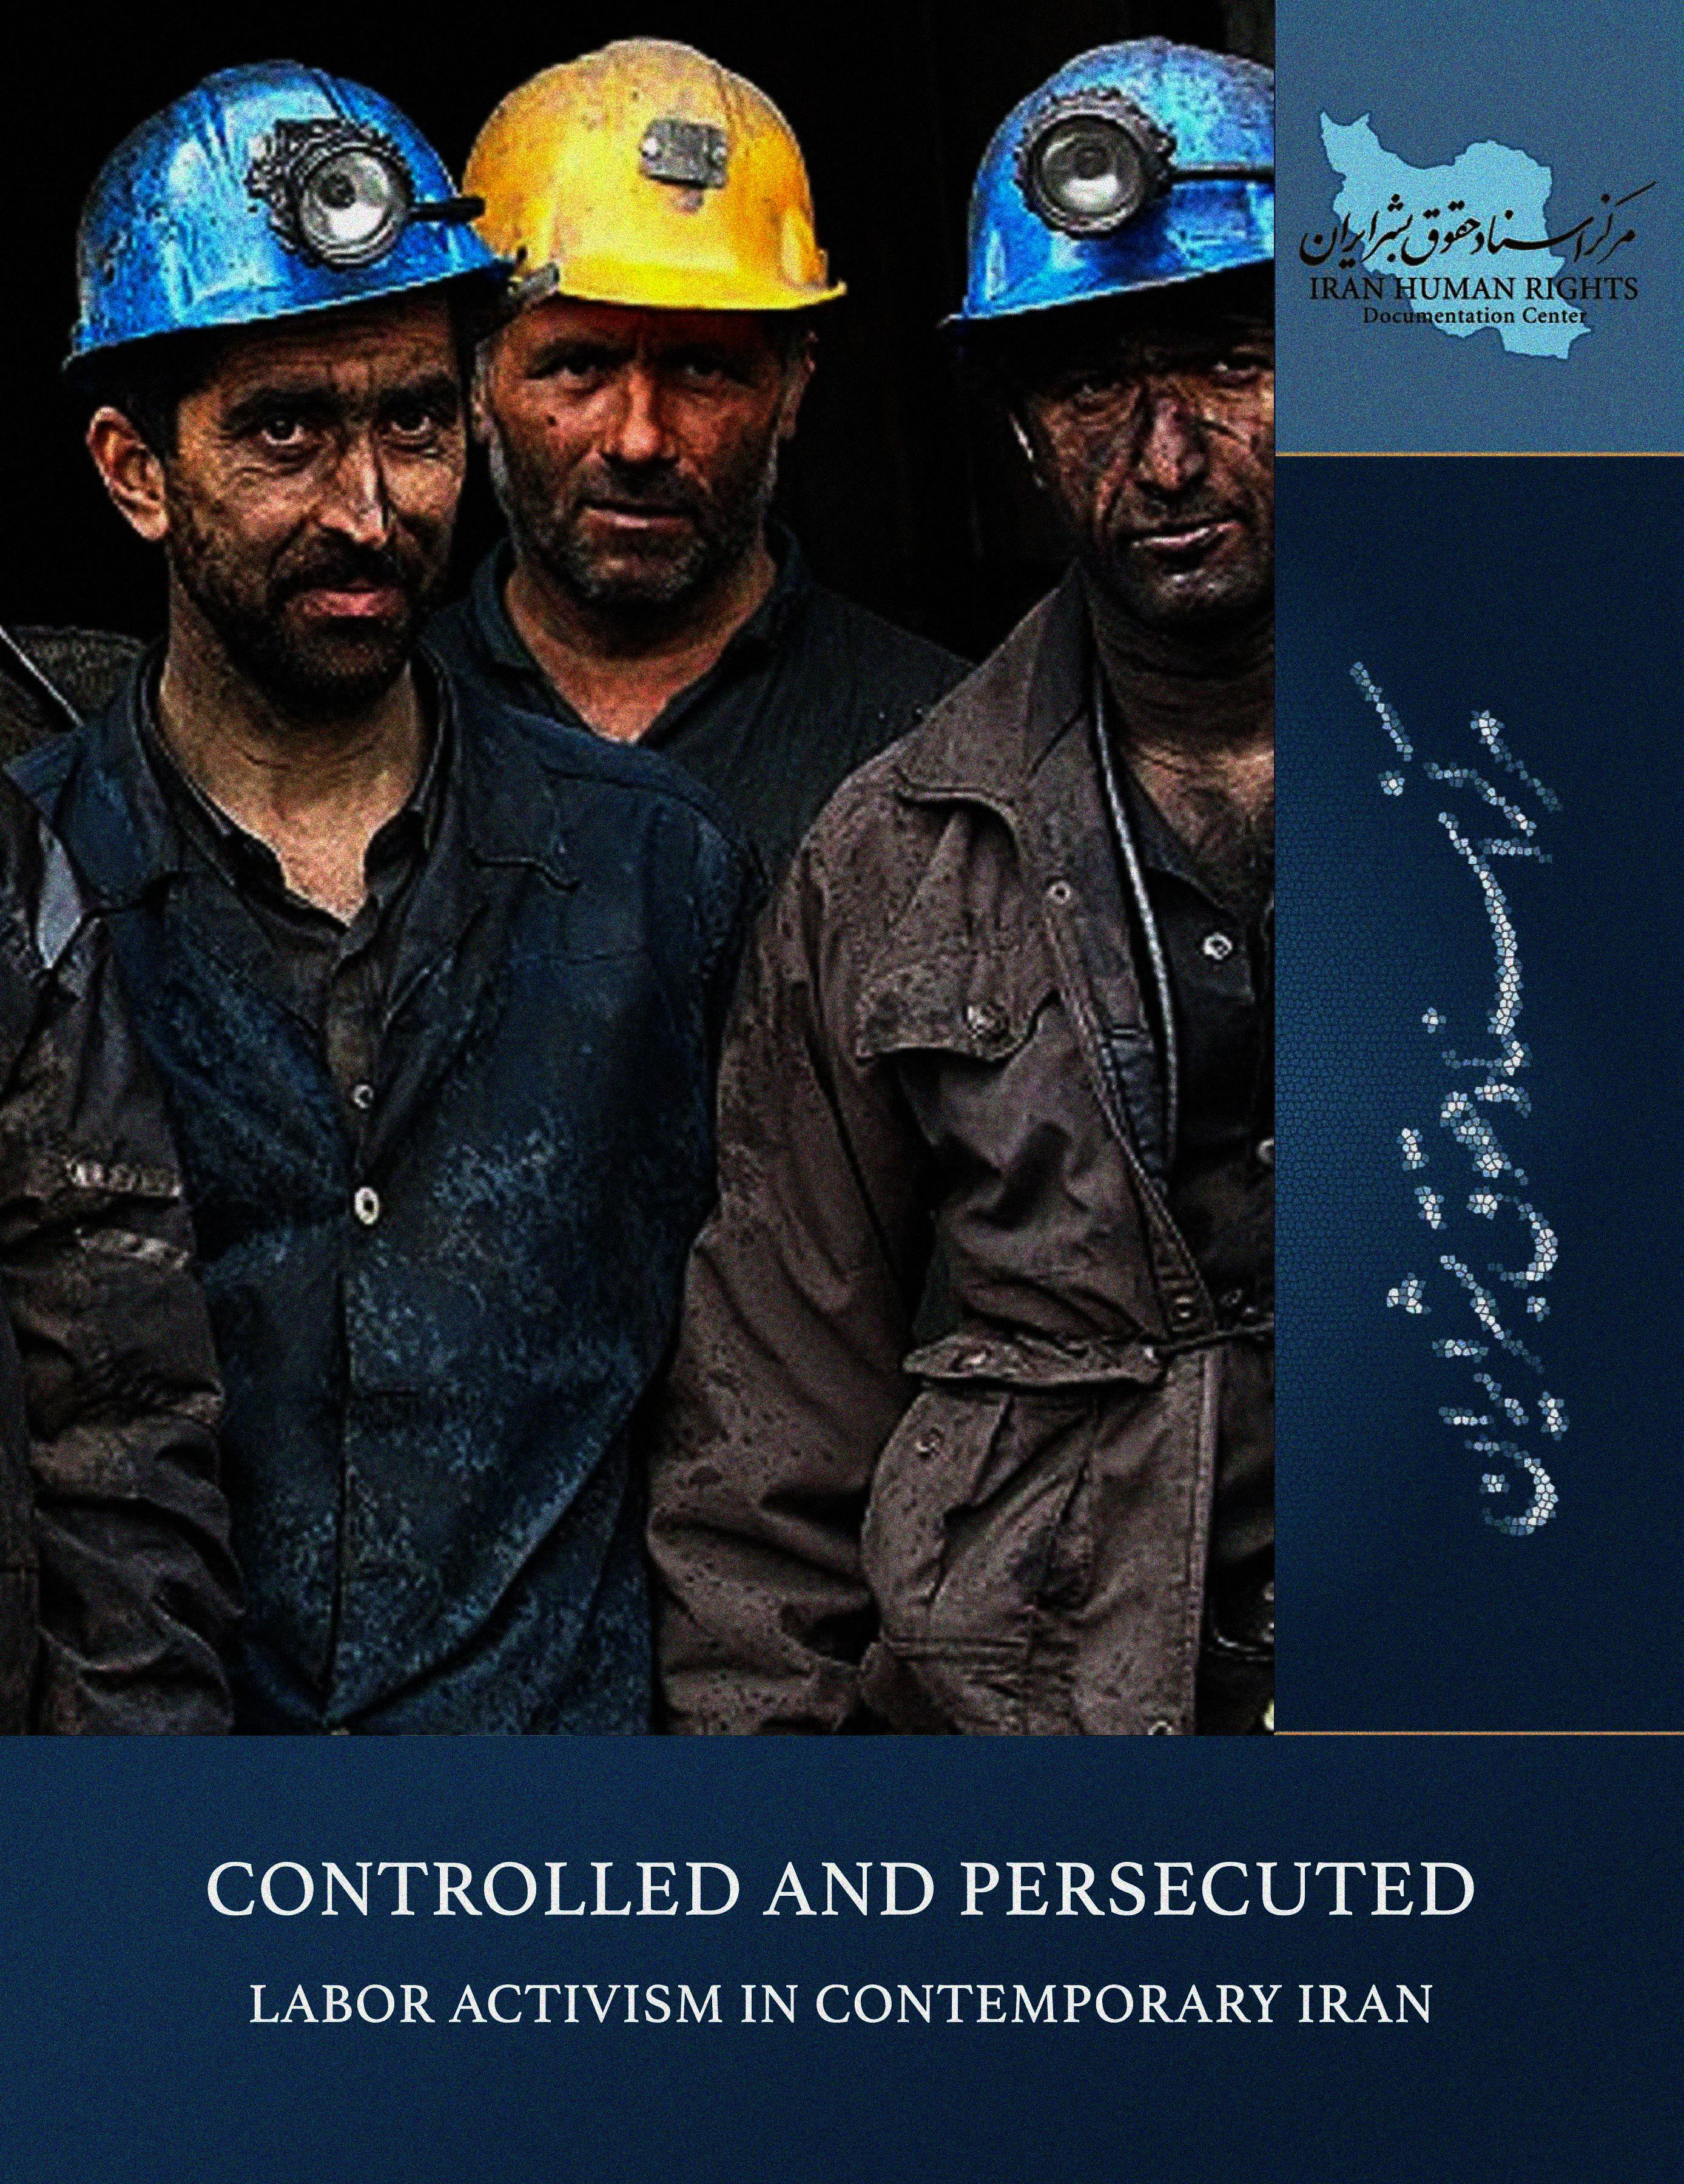helmet: (71, 62, 481, 704), (456, 34, 853, 617), (934, 28, 1288, 640)
